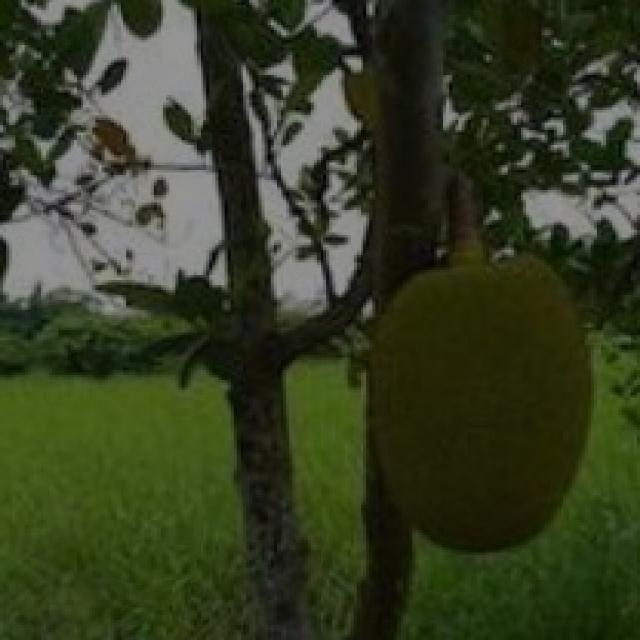Fruit: (323, 232, 625, 580), (0, 322, 308, 640)
